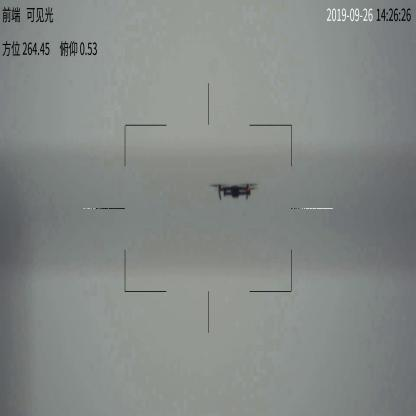uav: (210, 180, 254, 203)
